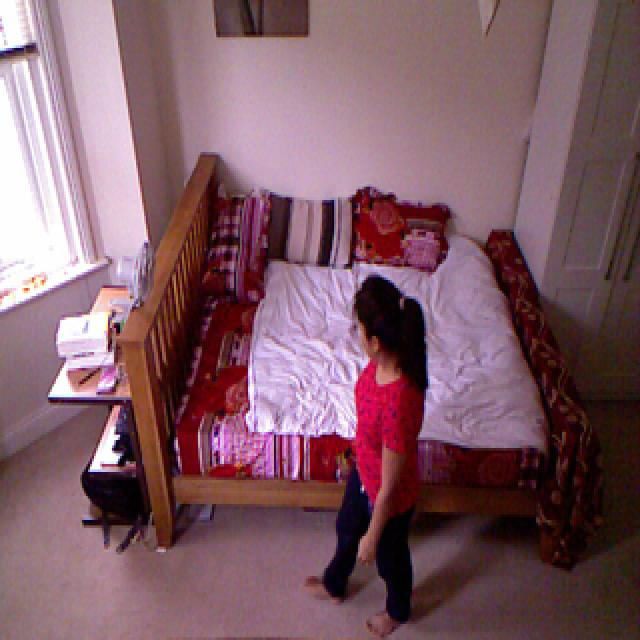standing: (327, 264, 440, 640)
